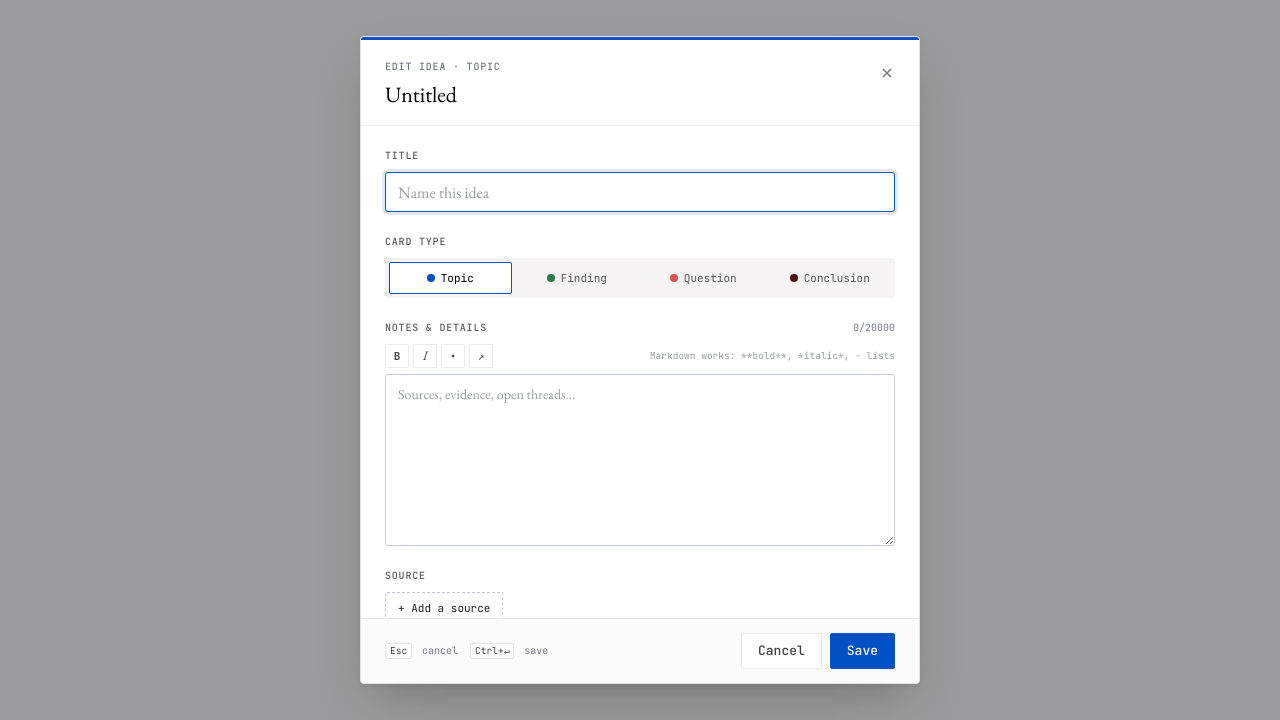
Test case: NodeEditor — component › Enter in the title saves
In the field with test id "node-editor-title": (640, 192) top-left (385, 172), bottom-right (895, 212), type "Quick title"
Then press Enter
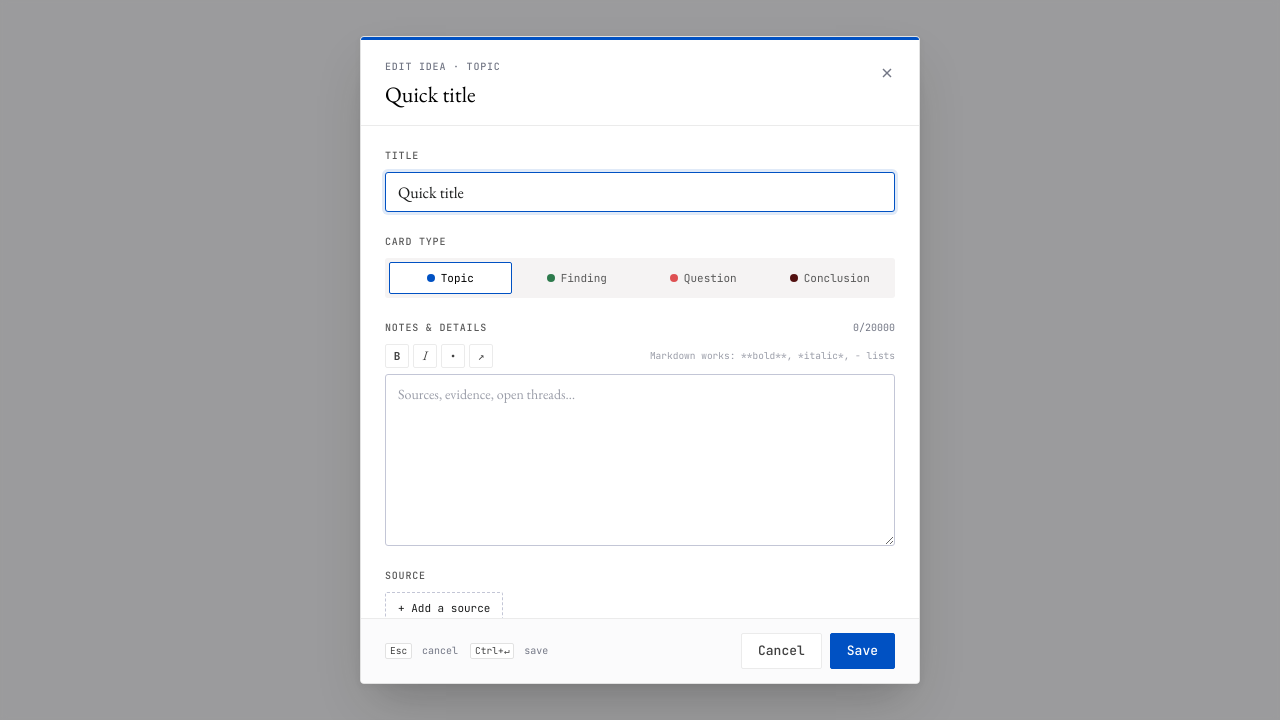
Now the heading "Quick title" is shown, box top-left (385, 80), bottom-right (476, 109)
